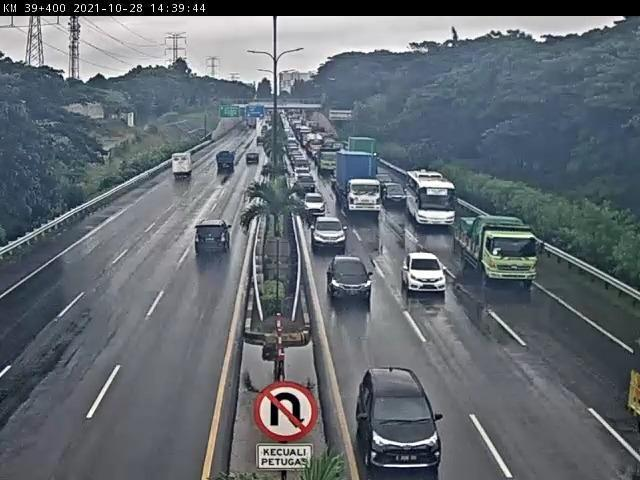bus: (406, 170, 457, 226)
car: (355, 367, 445, 473), (328, 258, 375, 302), (403, 255, 448, 296), (196, 219, 232, 255), (311, 218, 348, 253), (383, 179, 408, 205), (302, 191, 325, 216)
truck: (458, 214, 540, 285), (337, 150, 382, 213), (172, 152, 195, 183), (213, 150, 238, 174)
